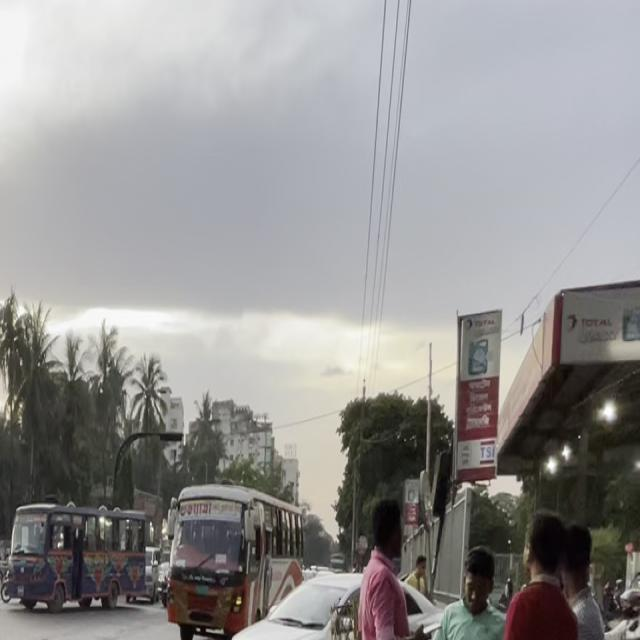bus: (155, 470, 303, 640)
car: (218, 556, 369, 640), (586, 548, 640, 640)
